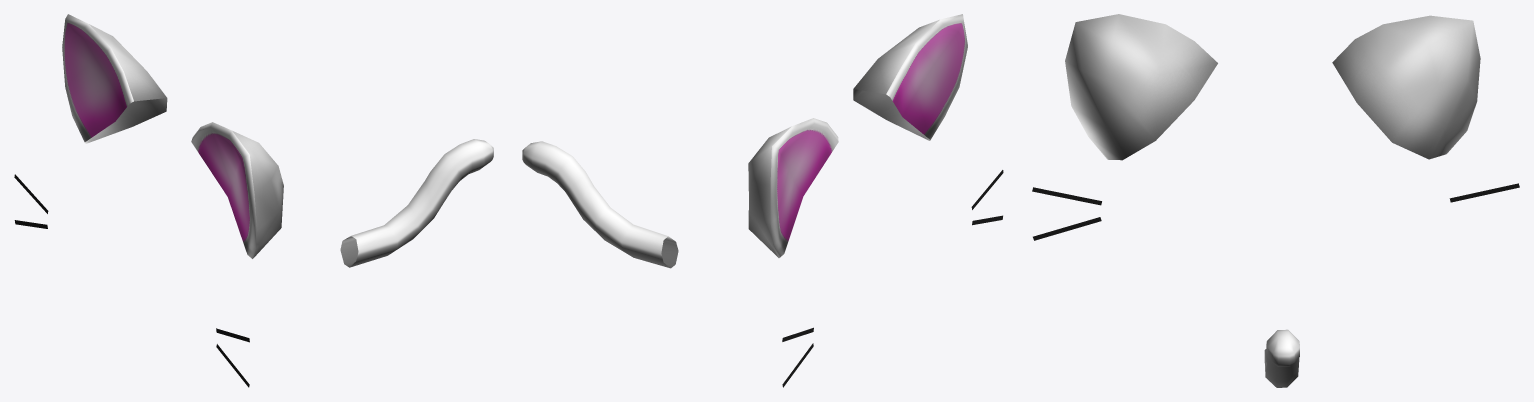
The model's file is MESH_Cat.fbx.
3 views of the same model, side by side, from view 1: azimuth 30°, elevation 25°; view 2: azimuth 150°, elevation 25°; view 3: azimuth 270°, elevation 25° (orthographic). The views are drawn at different scales.
Visible parts, largest first — view 1: MESH_Cat; view 2: MESH_Cat; view 3: MESH_Cat.
Boxes of the visible parts, bbox=[...] form: MESH_Cat: bbox=[14, 14, 493, 387]; MESH_Cat: bbox=[522, 14, 1003, 387]; MESH_Cat: bbox=[1032, 14, 1519, 387].
Size of the model in its own units: 249 by 154 by 268.
